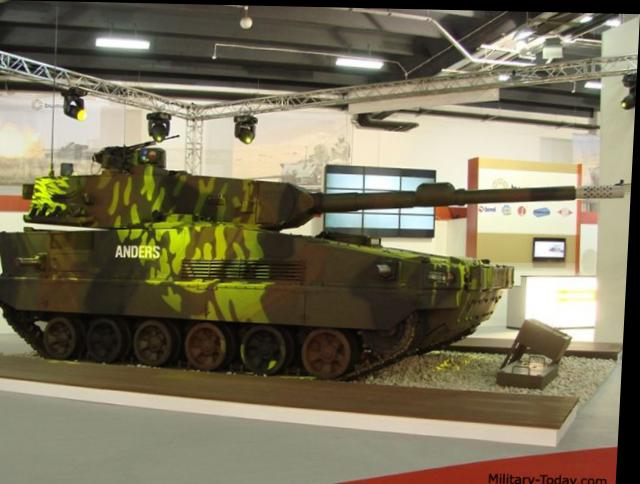tank: (0, 137, 508, 382)
